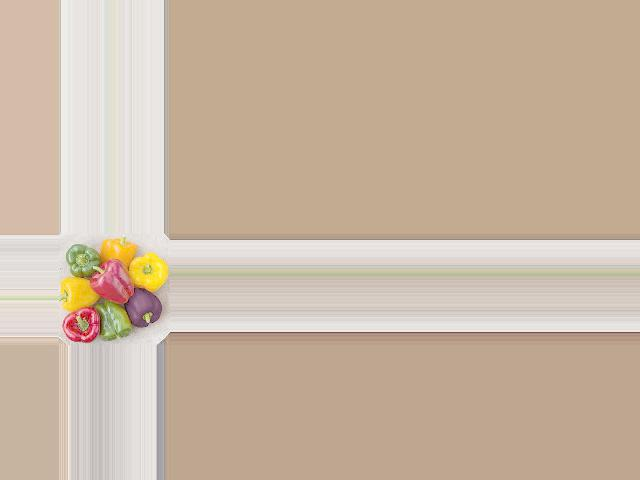bell_pepper: (118, 287, 160, 337)
